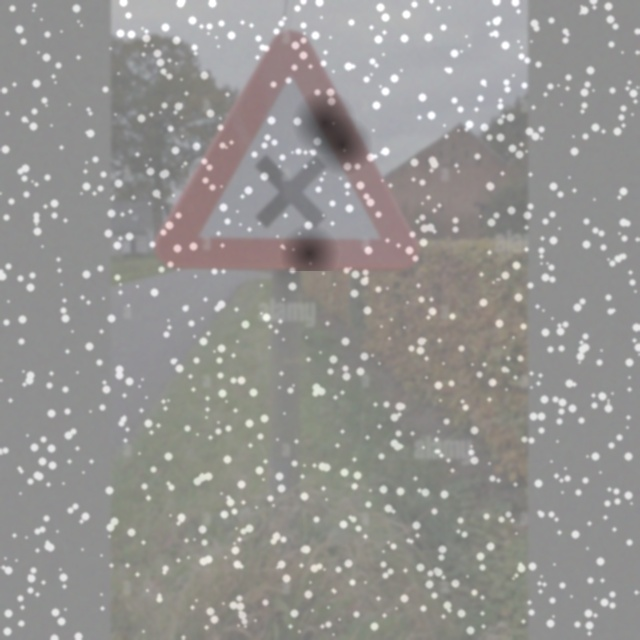Cross_Road: (167, 23, 409, 271)
